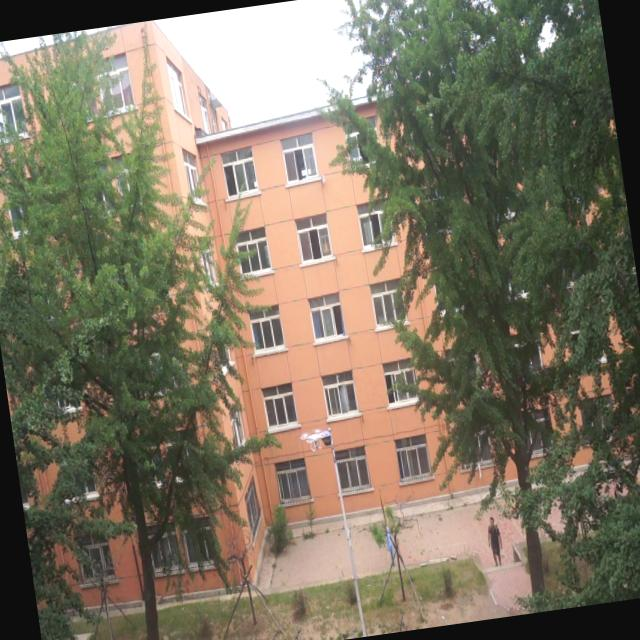drone: (298, 423, 336, 458)
